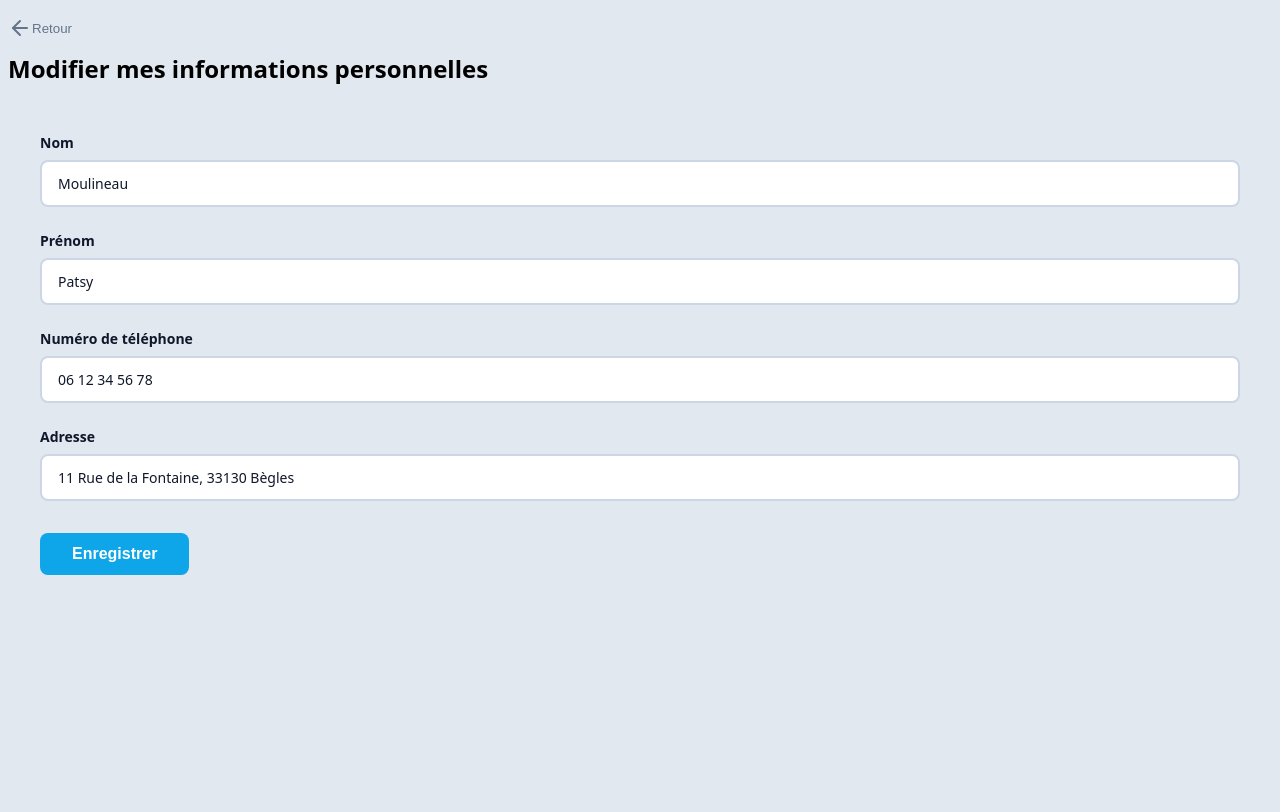
it: FormContactDetailsComponent › shows validation error for empty firstName
The width and height of the screenshot is (1280, 812).
Clear the field labelled "Prénom" at x=640, y=282, box [40,258,1240,305]
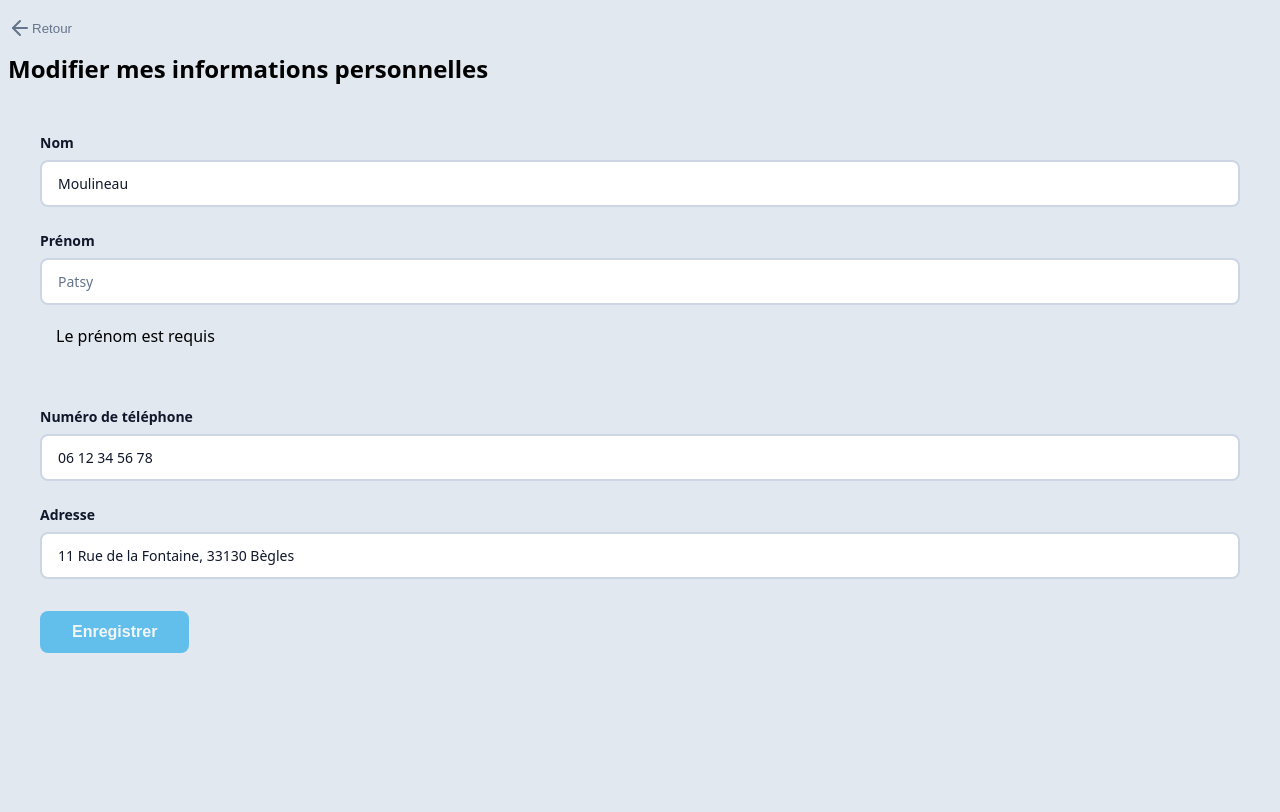
Now the text "Le prénom est requis" is shown, box [56,325,215,347]
